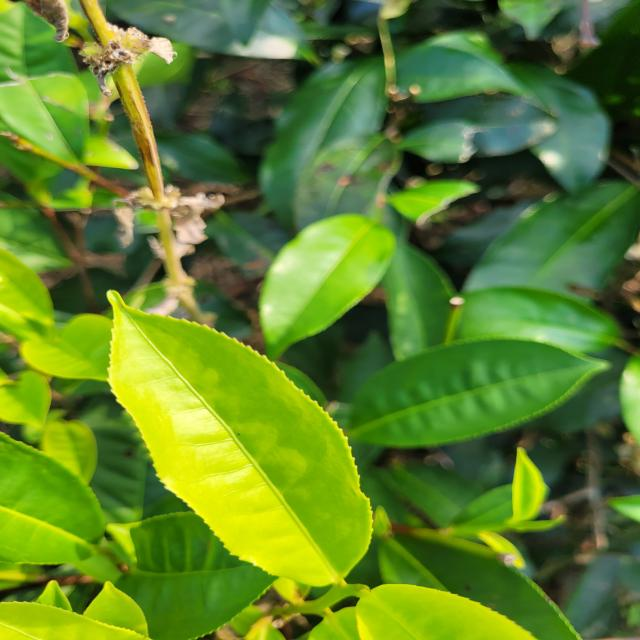Category B(2-4 days): (70, 268, 406, 614)
